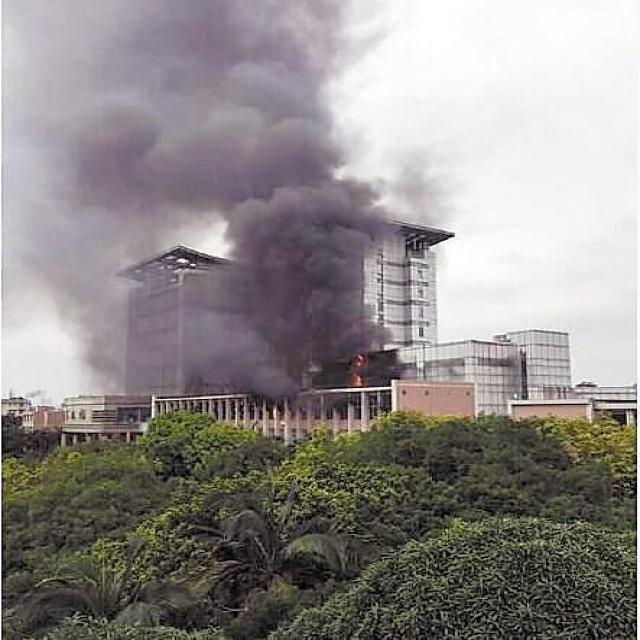fire: (345, 354, 367, 384)
smoke: (0, 0, 432, 396)
